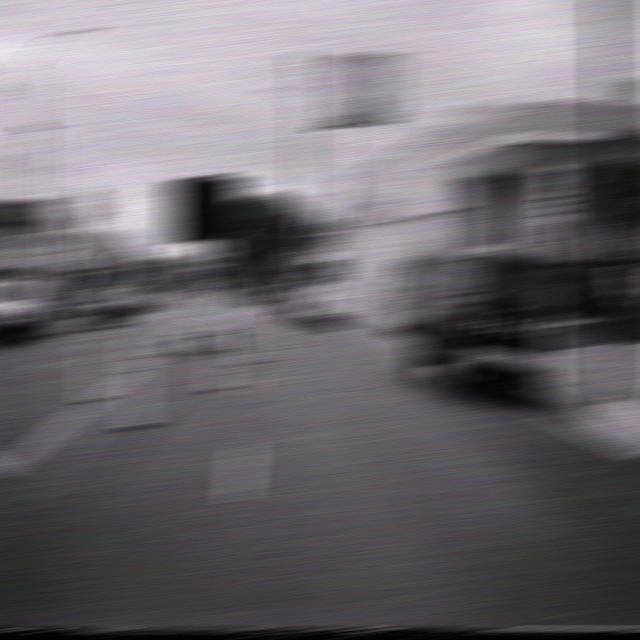speedLimit25: (536, 162, 575, 223)
